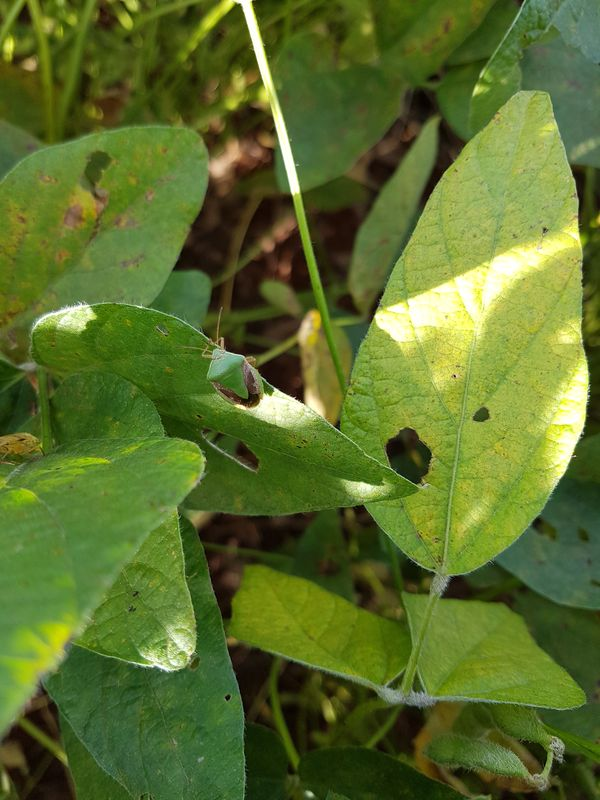Edessa_meditabunda: (179, 304, 275, 423)
Euschistus_heros_ninfa: (1, 421, 49, 480)
